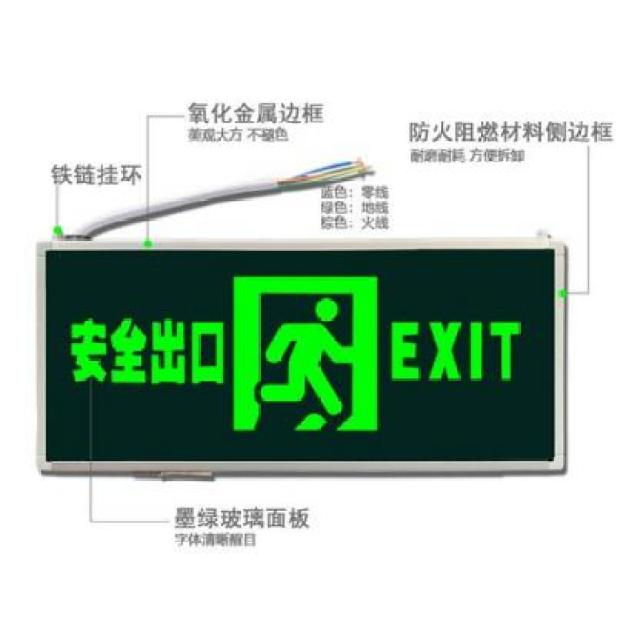exit_sign: (34, 225, 565, 488)
